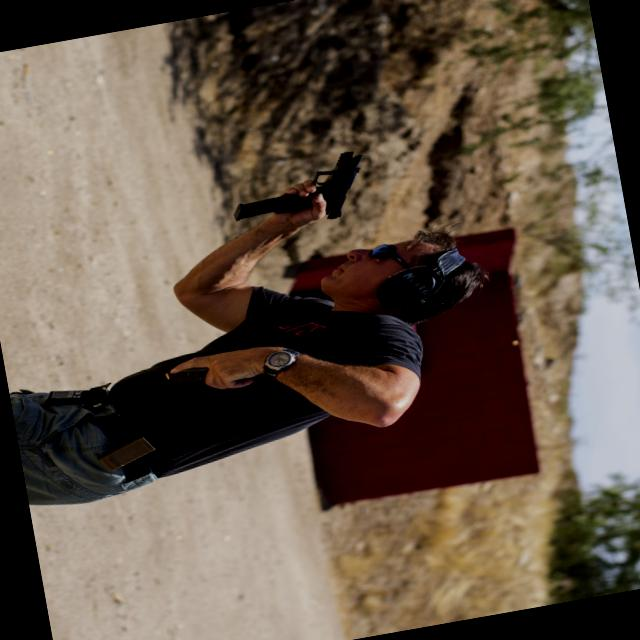handgun: (266, 146, 376, 228)
